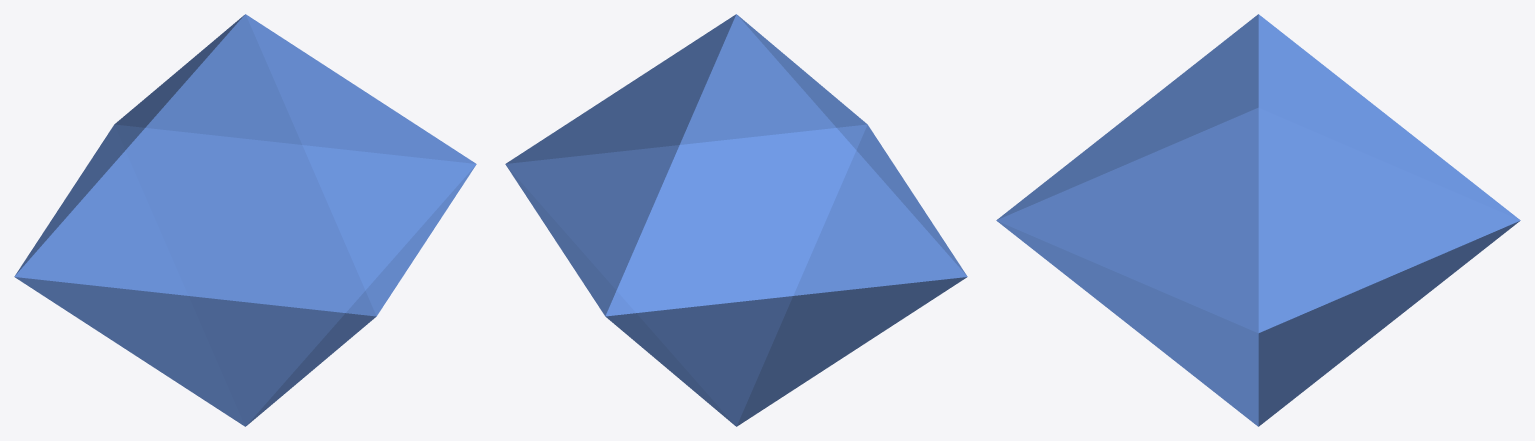
The model's file is bling.dae.
The picture shows the model from 3 angles, left to right: view 1: azimuth 30°, elevation 25°; view 2: azimuth 150°, elevation 25°; view 3: azimuth 270°, elevation 25°; orthographic projection.
Parts seen in each view (by area): view 1: group_0; view 2: group_0; view 3: group_0.
Part boxes in pixels (box(x1,y1,x2,y2)): group_0: box(14, 14, 476, 426); group_0: box(505, 14, 967, 426); group_0: box(996, 14, 1520, 426).
Bounding box in the file's own units: 581 × 571 × 496.
